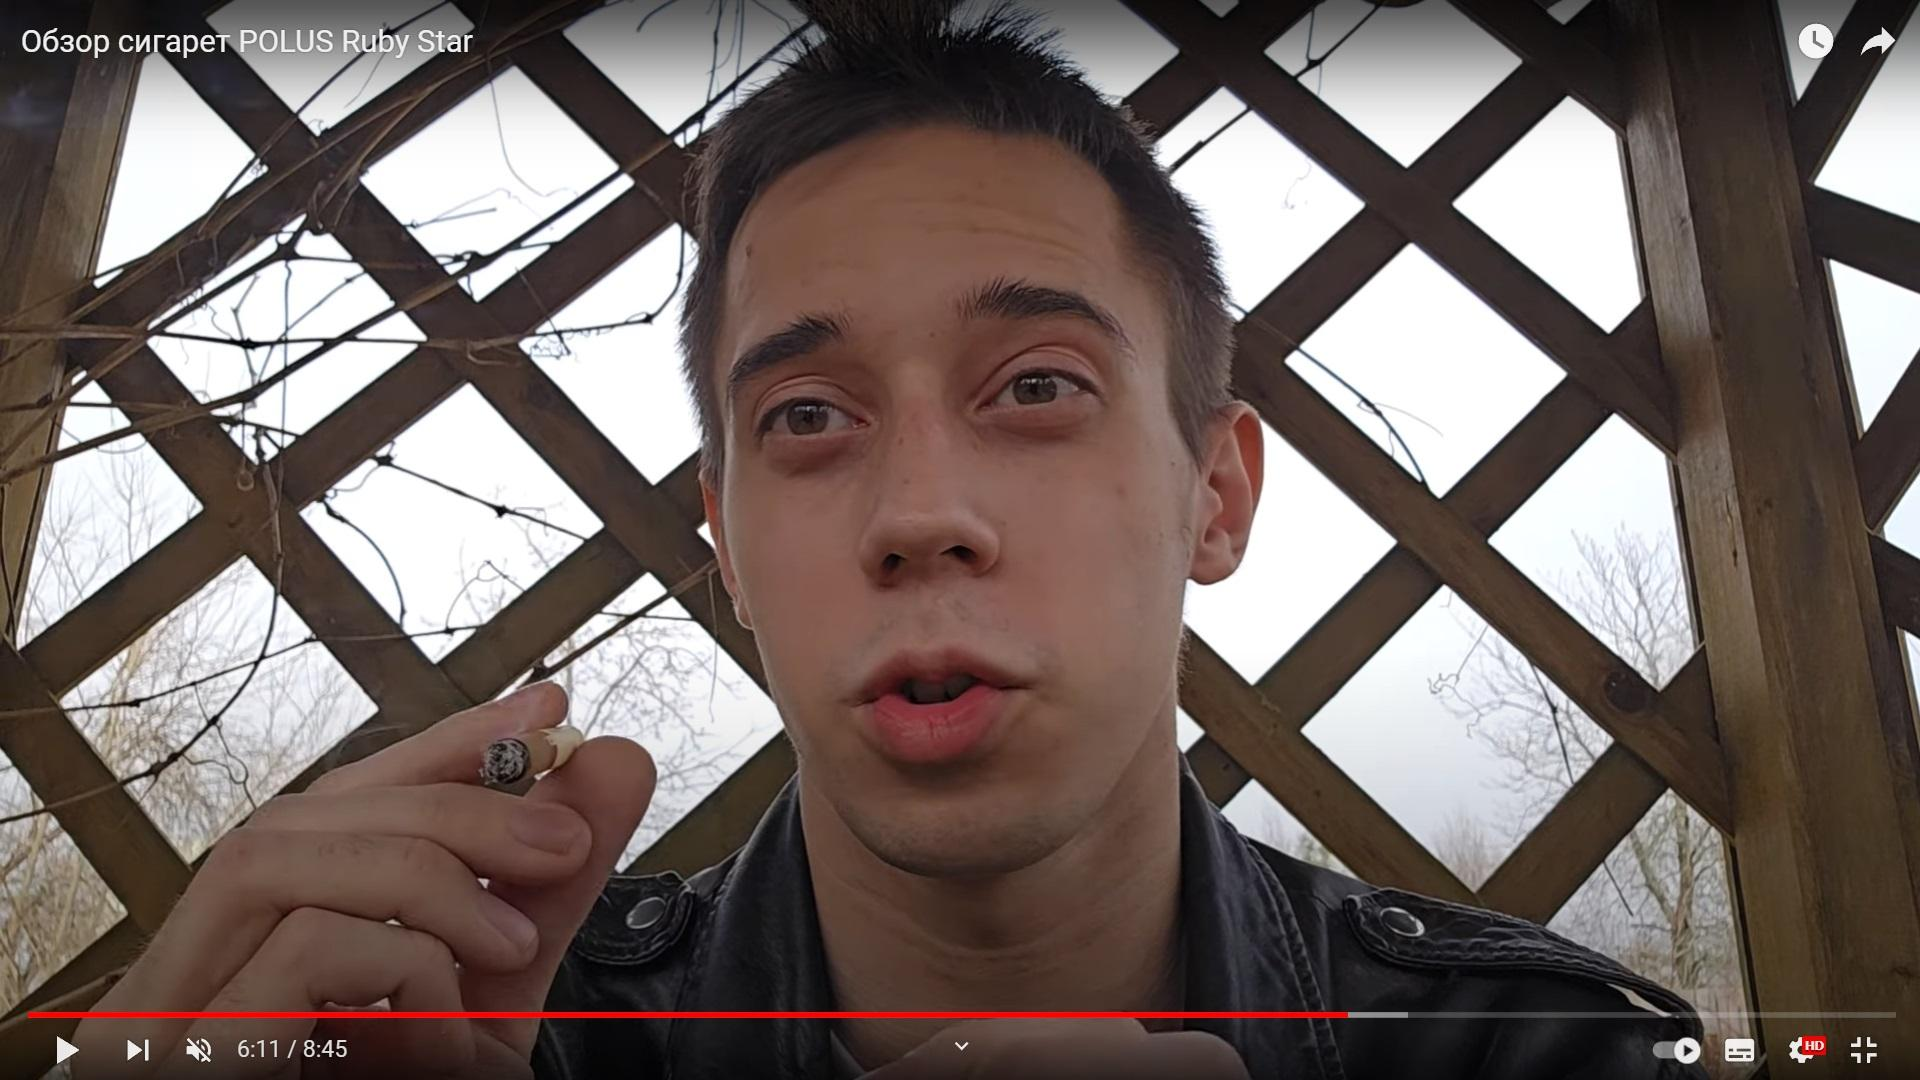cigarette: (481, 725, 585, 787)
